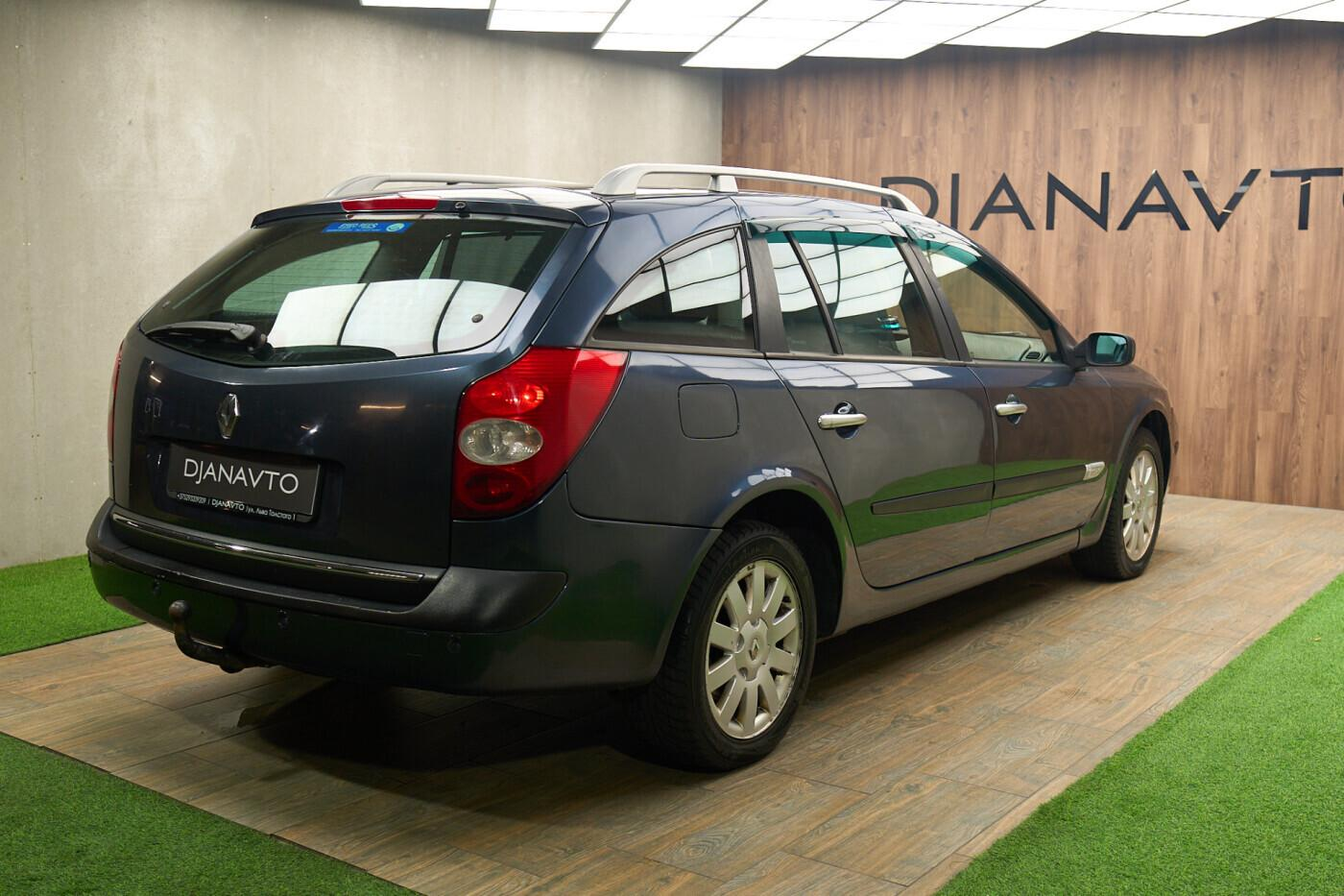Laguna_2005-2007: (82, 166, 1178, 789)
